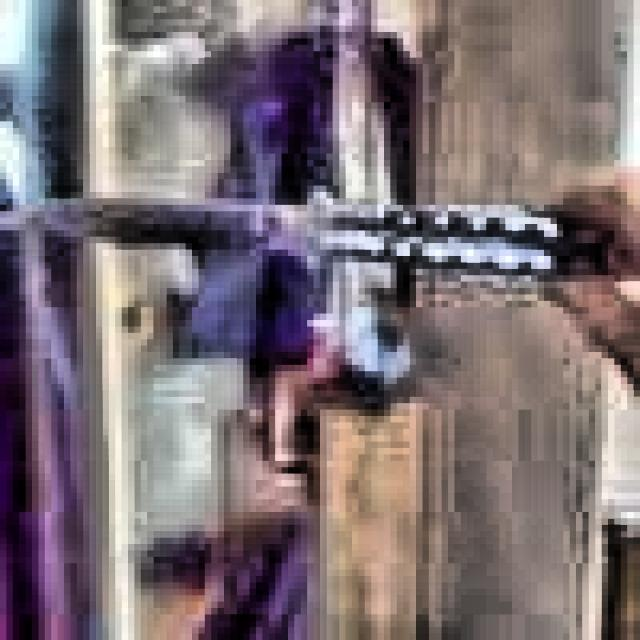knife: (5, 198, 616, 284)
